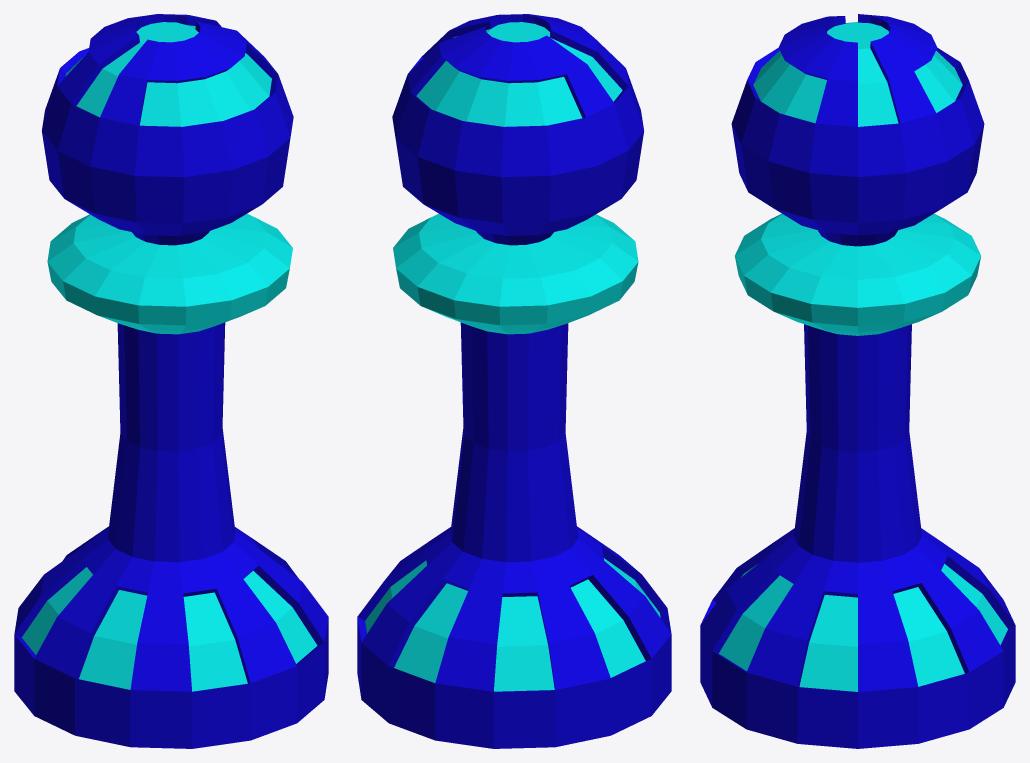
File: Pawn.fbx
The picture shows the model from 3 angles, left to right: view 1: azimuth 30°, elevation 25°; view 2: azimuth 150°, elevation 25°; view 3: azimuth 270°, elevation 25°; orthographic projection.
Parts seen in each view (by area): view 1: Cube.001; view 2: Cube.001; view 3: Cube.001.
Boxes of the visible parts, x1=… form: Cube.001: x1=14, y1=14, x2=328, y2=748; Cube.001: x1=357, y1=14, x2=671, y2=748; Cube.001: x1=700, y1=14, x2=1015, y2=748.
Bounding box in the file's own units: 41.2 × 93.98 × 41.2.
